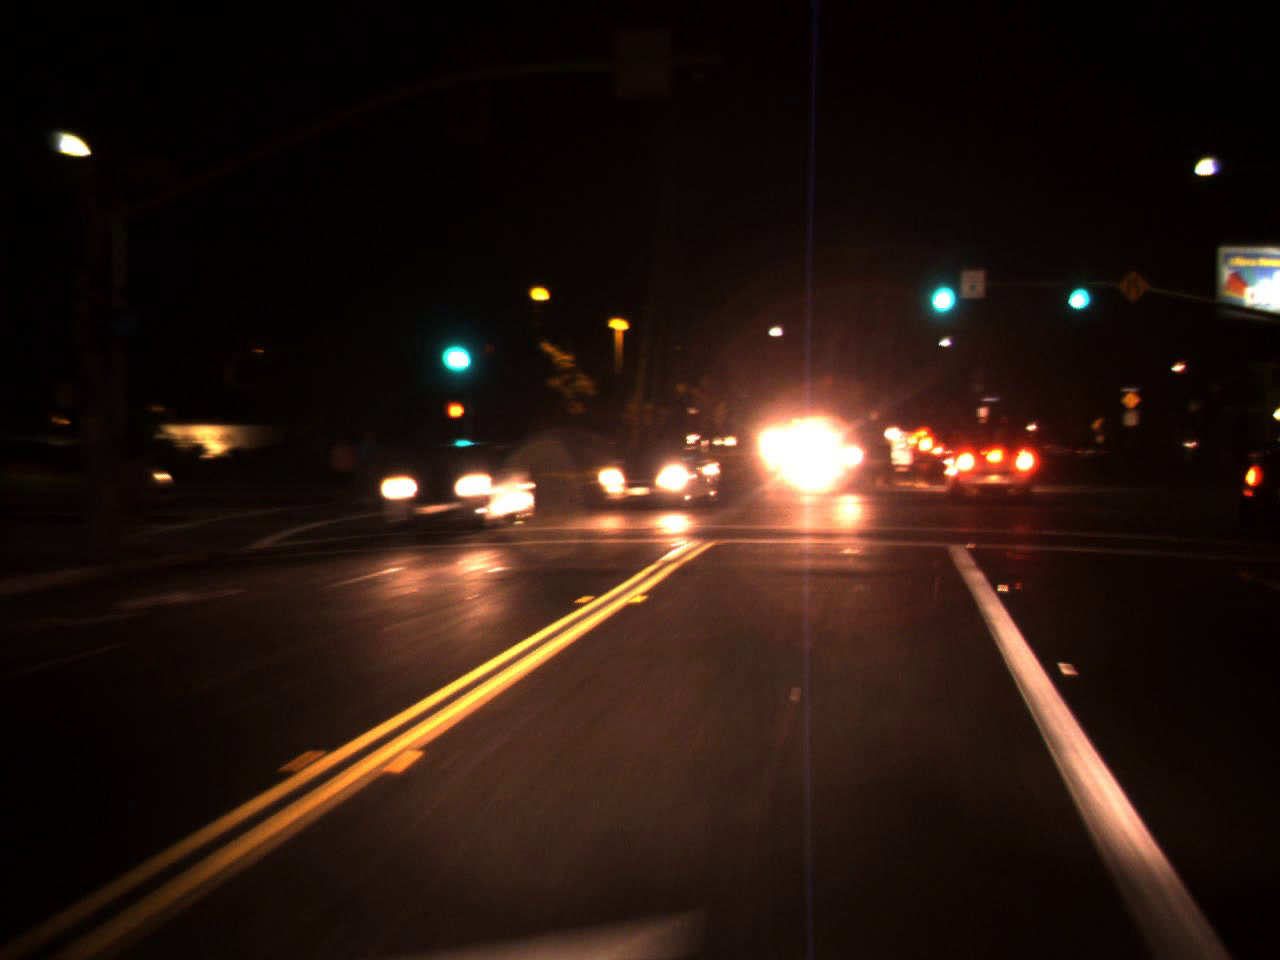go: (429, 311, 477, 383), (921, 252, 959, 324), (1059, 261, 1095, 318)
